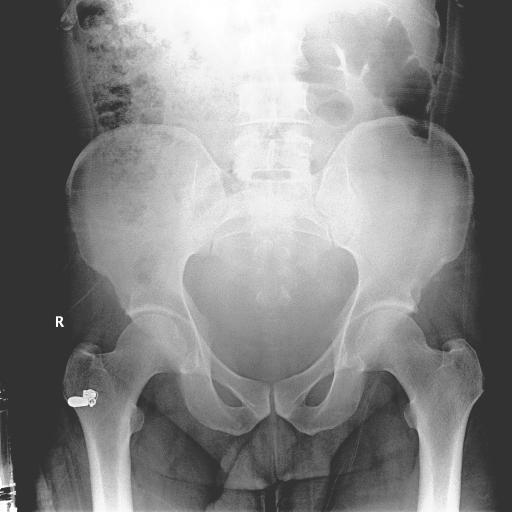normal: (355, 309, 483, 512), (62, 314, 187, 512)
